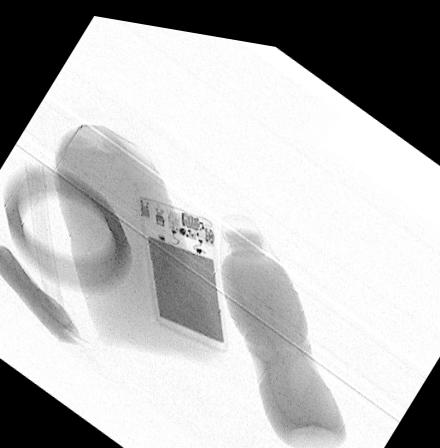Powerbank: (137, 190, 230, 344)
